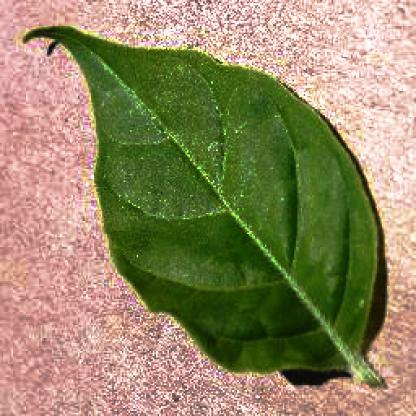Healthy: (20, 24, 388, 387)
